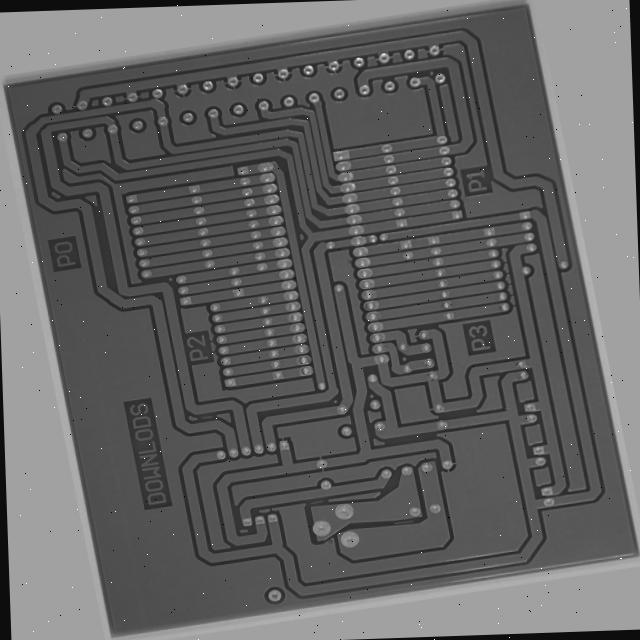spurious_copper: (365, 545, 391, 556), (272, 513, 294, 522), (163, 406, 181, 415)
